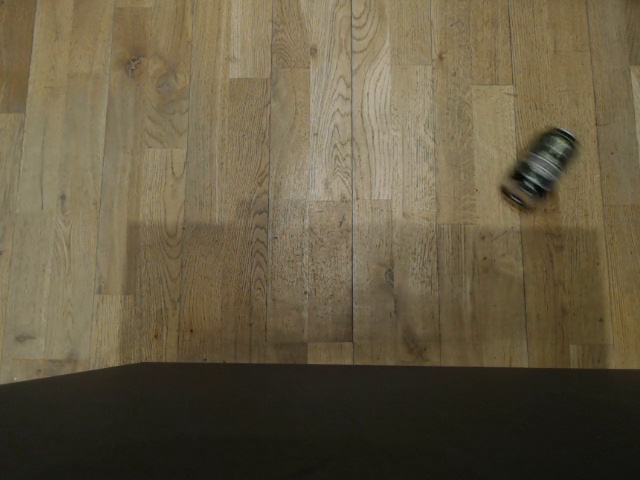beer: (500, 125, 581, 207)
